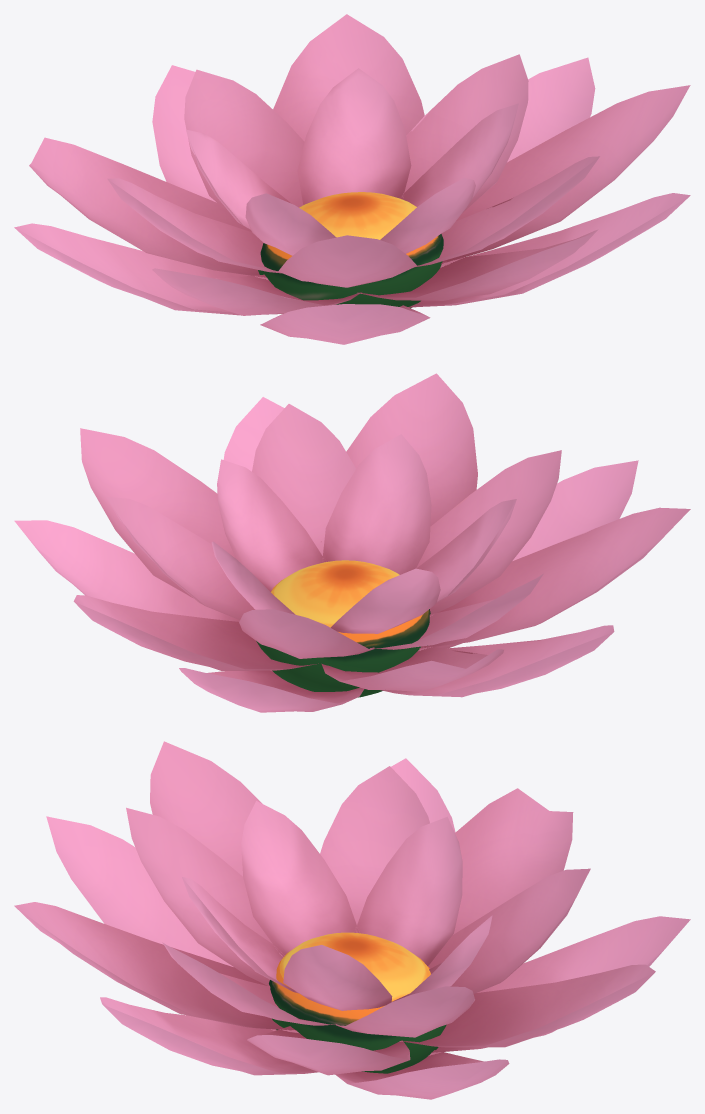
The model's file is Swamp_WaterLily.glb.
3 views of the same model, one above another, from view 1: azimuth 30°, elevation 25°; view 2: azimuth 150°, elevation 25°; view 3: azimuth 270°, elevation 25° (orthographic). The views are drawn at different scales.
Parts seen in each view (by area): view 1: Cube.012; view 2: Cube.012; view 3: Cube.012.
Boxes of the visible parts, <box> form: Cube.012: <box>14,14,690,344</box>; Cube.012: <box>14,373,690,712</box>; Cube.012: <box>14,741,690,1099</box>.
Bounding box in the file's own units: 50.51 × 15.41 × 46.86.
Materials: 1 (1 with a texture image).
